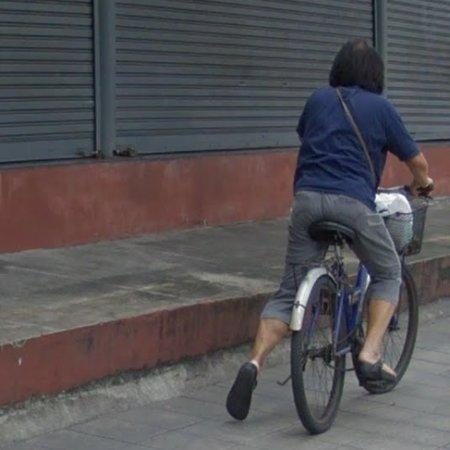bicycles: (292, 276, 346, 435)
